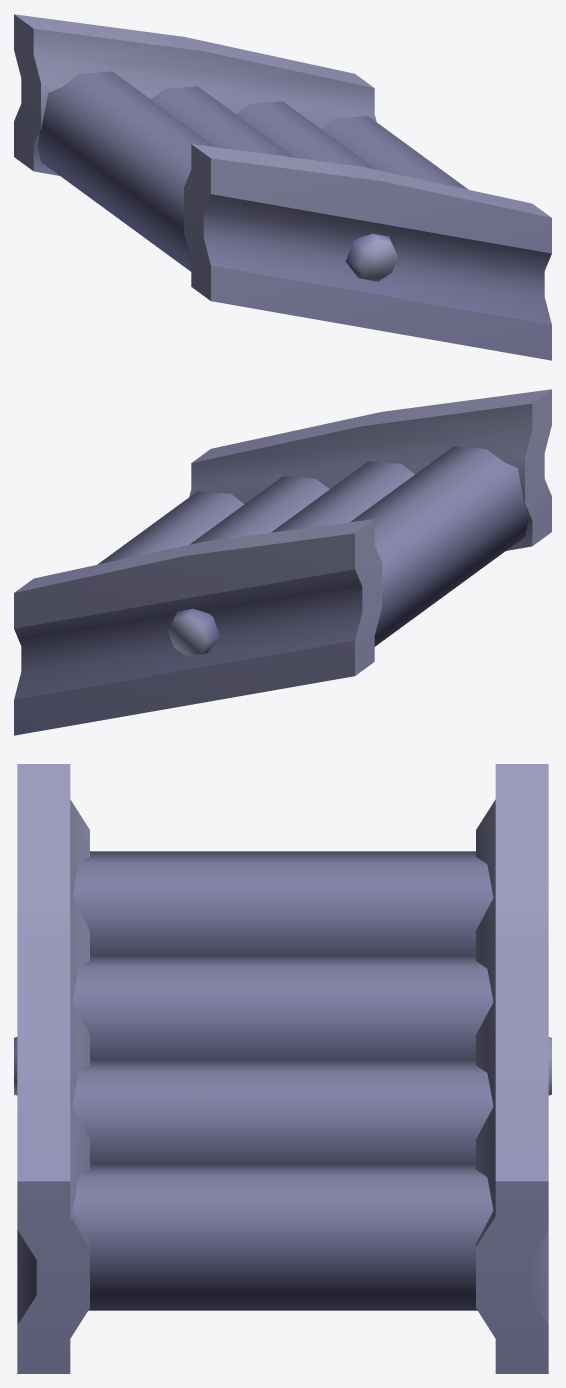
Rendered from kenney-factory-conveyor-bars-high-slope.glb.
3 views of the same model, one above another, from view 1: azimuth 30°, elevation 25°; view 2: azimuth 150°, elevation 25°; view 3: azimuth 270°, elevation 25° (orthographic). The views are drawn at different scales.
Parts seen in each view (by area): view 1: conveyor-bars-high-slope; view 2: conveyor-bars-high-slope; view 3: conveyor-bars-high-slope.
Part boxes in pixels (x1,y1,x2,y2): conveyor-bars-high-slope: (14, 14, 551, 360); conveyor-bars-high-slope: (14, 389, 551, 735); conveyor-bars-high-slope: (14, 764, 551, 1373).
Bounding box in the file's own units: 1 × 0.8 × 1.01.
1 material, 1 textured.
